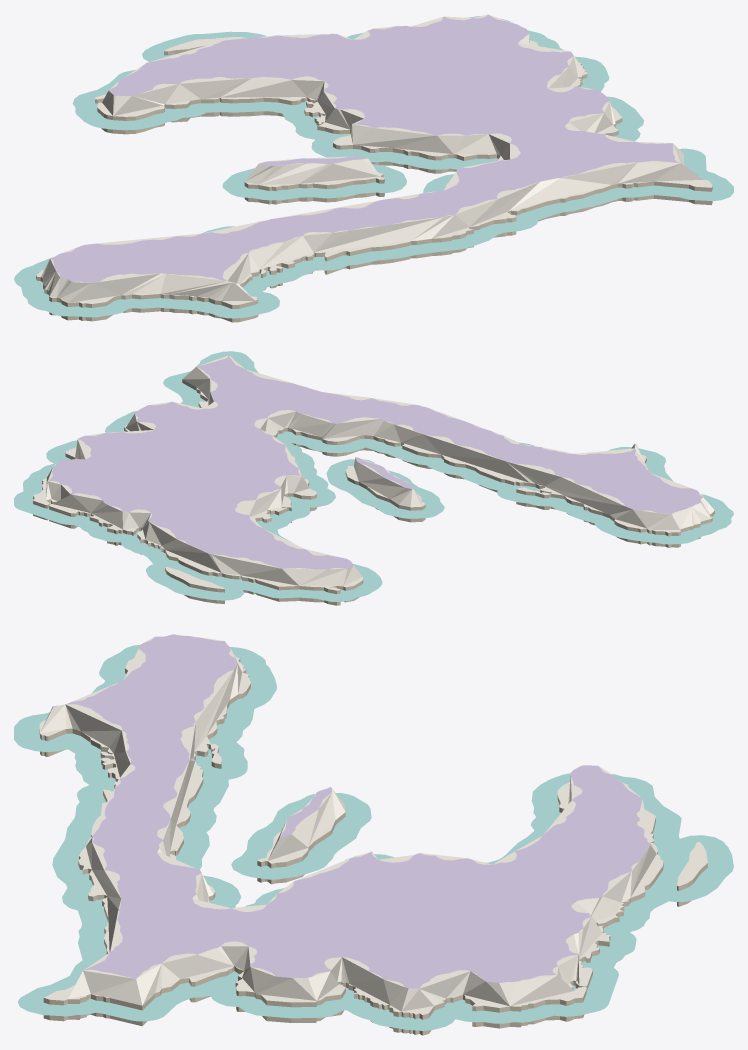
The model's file is haiti.glb.
3 renders of one model, top to bottom at view 1: azimuth 30°, elevation 25°; view 2: azimuth 150°, elevation 25°; view 3: azimuth 270°, elevation 25°, orthographic. The views are drawn at different scales.
Visible parts, largest first — view 1: terre, plage, lagon, falaise; view 2: terre, plage, lagon, falaise; view 3: terre, lagon, plage, falaise.
Boxes of the visible parts, x1,y1,x2,y2 form: terre: [50, 14, 679, 283]; plage: [36, 14, 712, 304]; lagon: [14, 16, 733, 318]; falaise: [36, 46, 712, 322]; terre: [48, 355, 703, 569]; plage: [33, 355, 714, 590]; lagon: [14, 351, 733, 601]; falaise: [33, 379, 714, 605]; terre: [53, 634, 650, 988]; lagon: [14, 645, 733, 1030]; plage: [39, 634, 707, 1014]; falaise: [39, 658, 707, 1035].
Size of the model in its own units: 1.06 by 0.05 by 0.8254.
